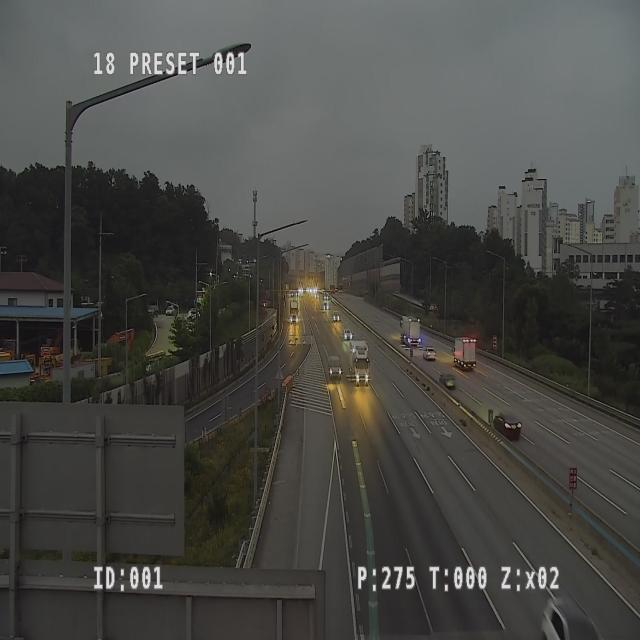Car: (540, 578, 597, 640), (493, 412, 522, 441), (437, 366, 459, 396), (329, 356, 341, 380), (343, 325, 354, 345), (423, 346, 436, 362), (333, 311, 340, 322)
Truck: (349, 341, 370, 387), (452, 338, 476, 372), (400, 316, 421, 347), (290, 300, 298, 323)
